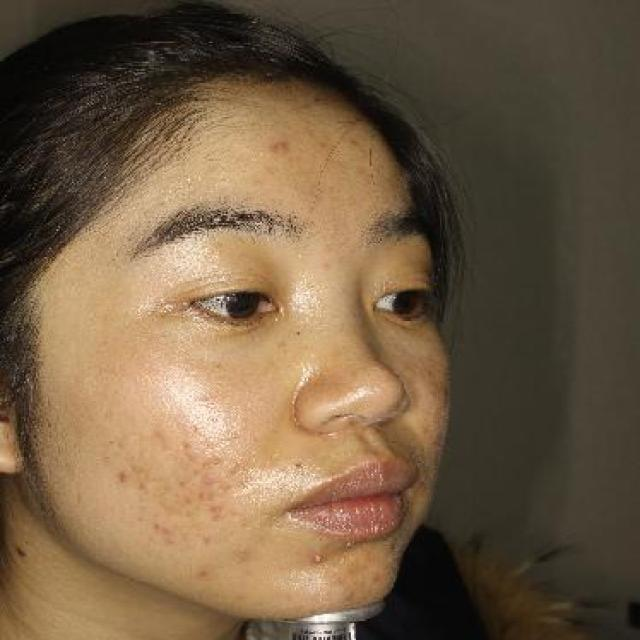Acne: (266, 135, 294, 157), (110, 468, 137, 487), (308, 546, 326, 566)
